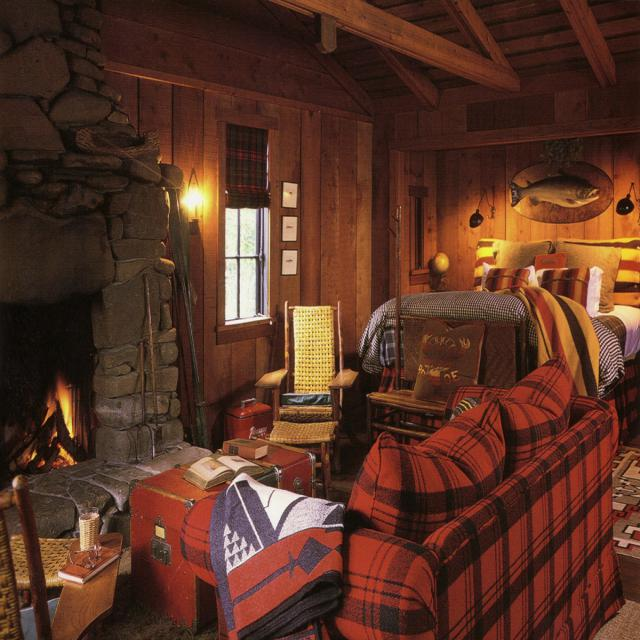2001: (220, 117, 276, 335)
basket crop: (76, 124, 162, 161)
bedskirt: (606, 359, 639, 444)
bench crop: (367, 390, 444, 448)
blanket: (210, 470, 347, 640), (494, 286, 600, 395)
book case: (181, 455, 263, 491), (58, 545, 122, 586), (223, 437, 269, 460)
ceiling beam: (271, 0, 639, 116)
chair -occluded-: (0, 477, 122, 639)
chest of drawers crop: (131, 438, 318, 636)
chimney: (1, 0, 211, 550)
coat: (388, 205, 401, 385)
comforter: (357, 291, 623, 395)
cooler: (224, 397, 273, 440)
cushion occluded: (282, 393, 331, 405)
decorative globe: (429, 250, 453, 292)
fireplace mantle: (6, 303, 98, 489)
fishing pole: (168, 227, 196, 447)
foot board: (402, 314, 527, 386)
glass ceiling: (79, 505, 99, 550)
glasses -X: (62, 538, 102, 571)
light fixture: (189, 181, 205, 235)
mounted fish: (508, 161, 614, 224)
ore: (166, 182, 210, 449)
ottoman: (269, 417, 338, 498)
picture crop: (281, 179, 299, 208), (281, 249, 299, 277), (281, 215, 299, 242)
pillow occluded: (409, 316, 481, 402), (566, 238, 640, 307), (474, 239, 560, 289), (564, 241, 619, 310), (538, 270, 599, 316), (495, 239, 548, 267), (480, 265, 534, 289), (534, 251, 565, 267)
plant -x: (539, 137, 583, 169)
poker: (134, 341, 155, 463)
rocking chair: (254, 297, 363, 474)
roman shade: (226, 122, 269, 210)
rug -partially obscured-: (614, 444, 639, 560), (593, 599, 640, 639)
sheets: (597, 302, 639, 361)
shovel: (143, 271, 164, 457)
sofa bed: (180, 351, 625, 639)
wall clock: (102, 0, 639, 451)
wall light: (469, 188, 497, 230), (615, 181, 639, 224)
